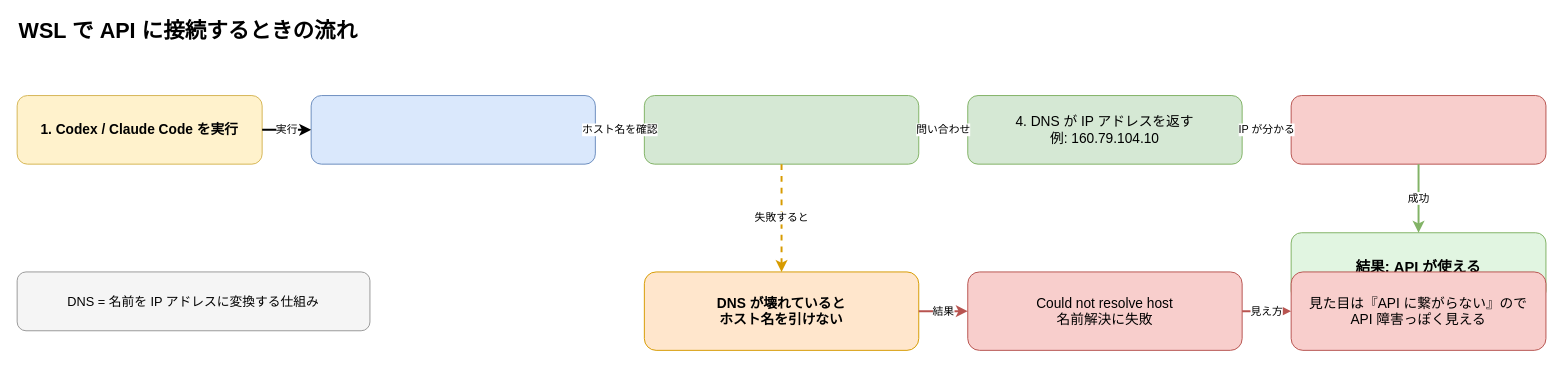
This 1563x368 diagram has some shape labels left out. Each missing label, with the centre of its shape:
2. WSL が API のホスト名を確認 例: api.anthropic.com: the point at 452,129
3. DNS に『この名前の住所は？』と聞く: the point at 781,129
5. その IP アドレスに API 接続する: the point at 1418,129
